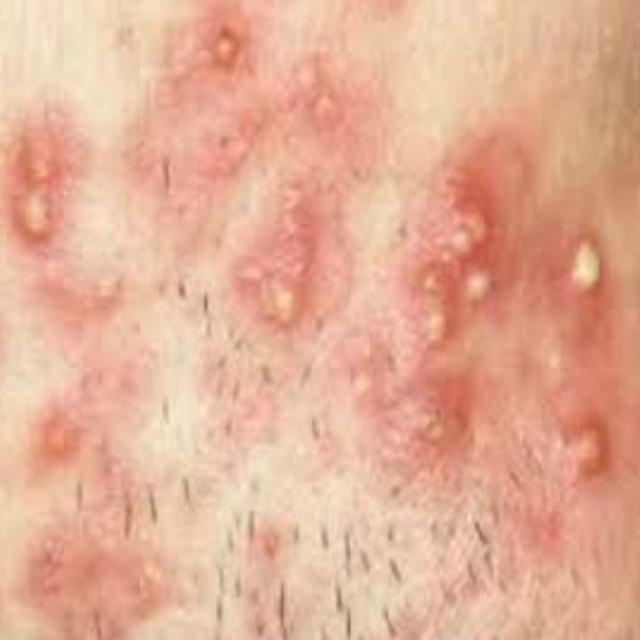pustule: (386, 165, 506, 418), (224, 174, 339, 328), (546, 220, 640, 333), (5, 136, 76, 257), (203, 6, 269, 117), (563, 401, 625, 514)
